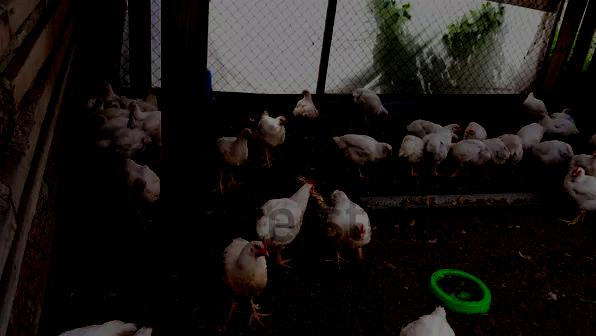Pollos: (259, 178, 319, 240), (223, 237, 270, 297), (327, 189, 372, 250), (120, 158, 163, 207), (331, 132, 392, 164), (212, 126, 255, 170), (529, 139, 575, 175), (449, 139, 492, 174), (565, 167, 596, 212), (353, 86, 389, 122), (257, 109, 287, 148), (406, 116, 461, 137), (549, 108, 583, 137), (129, 101, 162, 130), (426, 134, 454, 168), (500, 132, 523, 171), (90, 110, 128, 133), (520, 90, 548, 120), (403, 135, 425, 166), (297, 89, 319, 119), (465, 120, 488, 139)
